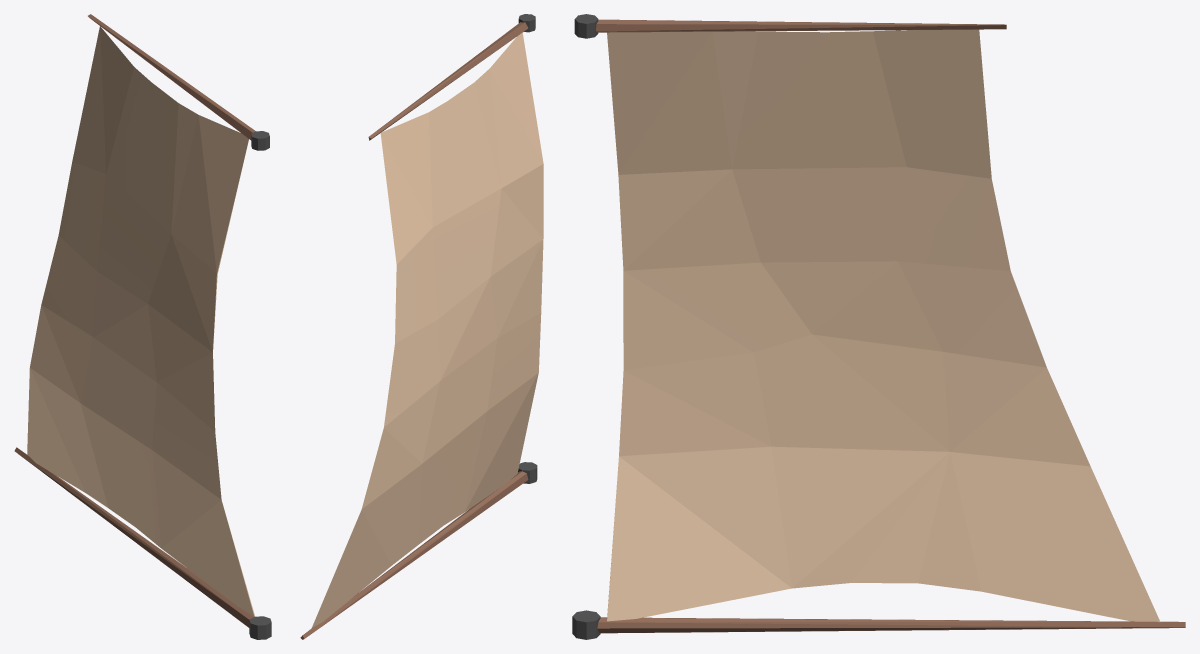
The model's file is Ship_01_2.fbx.
3 views of the same model, side by side, from view 1: azimuth 30°, elevation 25°; view 2: azimuth 150°, elevation 25°; view 3: azimuth 270°, elevation 25° (orthographic). The views are drawn at different scales.
Parts seen in each view (by area): view 1: Ship_01_2; view 2: Ship_01_2; view 3: Ship_01_2.
Part boxes in pixels (x1,y1,x2,y2): Ship_01_2: (14, 14, 271, 639); Ship_01_2: (300, 14, 543, 639); Ship_01_2: (572, 14, 1185, 639).
Bounding box in the file's own units: 55.91 × 576 × 520.
